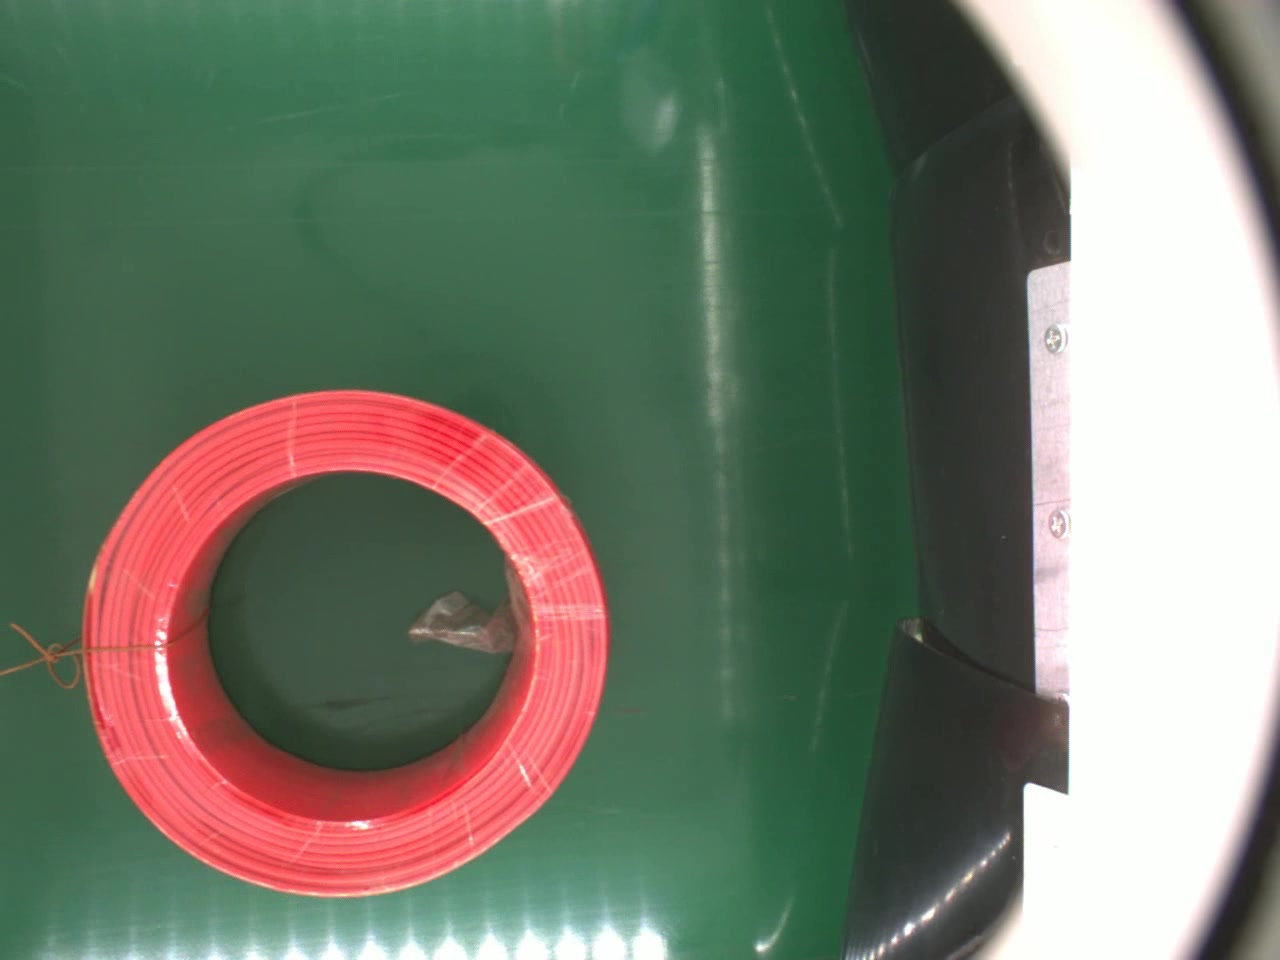red: (78, 384, 609, 901)
